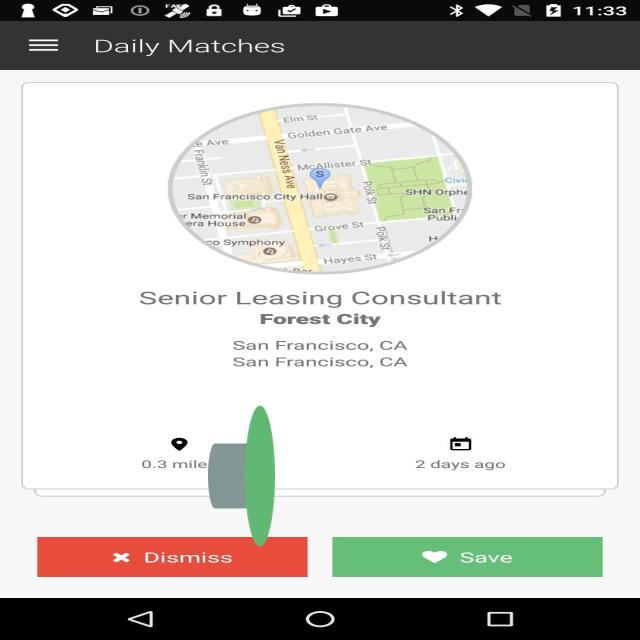social proof: (208, 319, 275, 633)
